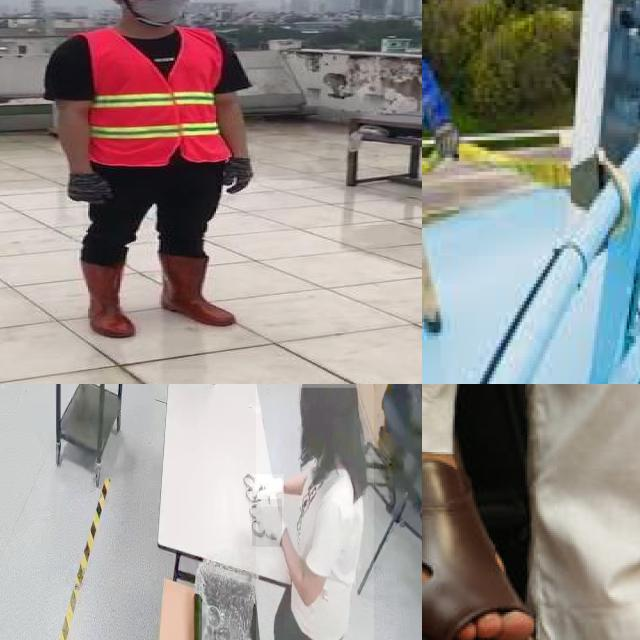Harness: (422, 0, 454, 290)
Sandals: (422, 408, 556, 640)
boots: (65, 254, 143, 341), (157, 254, 239, 328)
face_mask: (129, 0, 195, 22)
hand_glove: (252, 499, 282, 547), (69, 174, 111, 207), (221, 158, 259, 194), (250, 474, 284, 507)
person: (33, 0, 266, 346), (255, 384, 374, 640)
vest: (88, 26, 236, 166)
